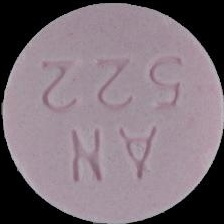65162-522: (0, 0, 224, 224)
